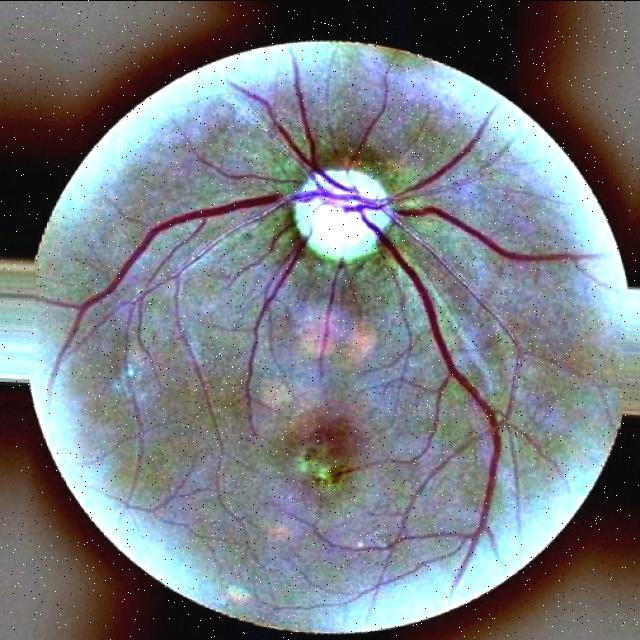Macula: (285, 405, 373, 501)
Nerves: (349, 109, 571, 571), (48, 190, 329, 399)
Optic Disk: (284, 149, 407, 270)
